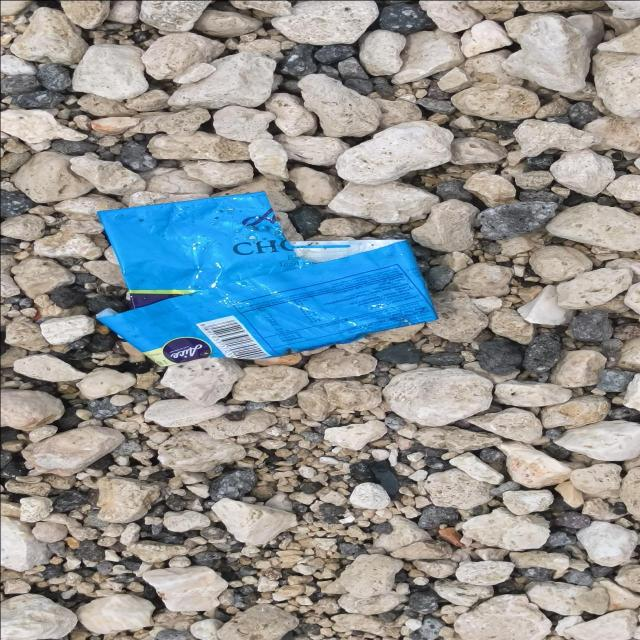plastic_waste: (96, 192, 439, 368)
